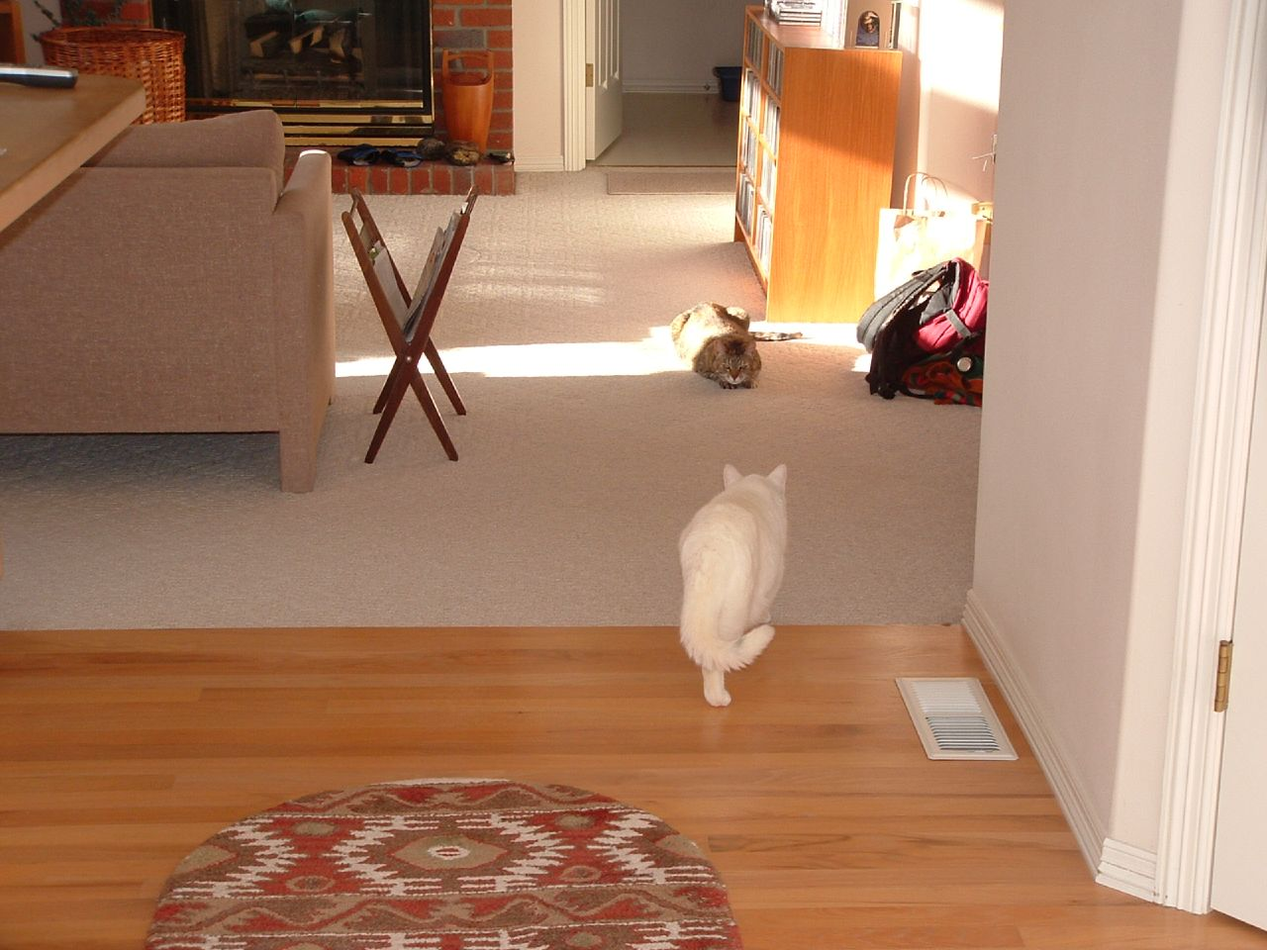cat: (676, 465, 789, 706), (671, 302, 810, 388)
